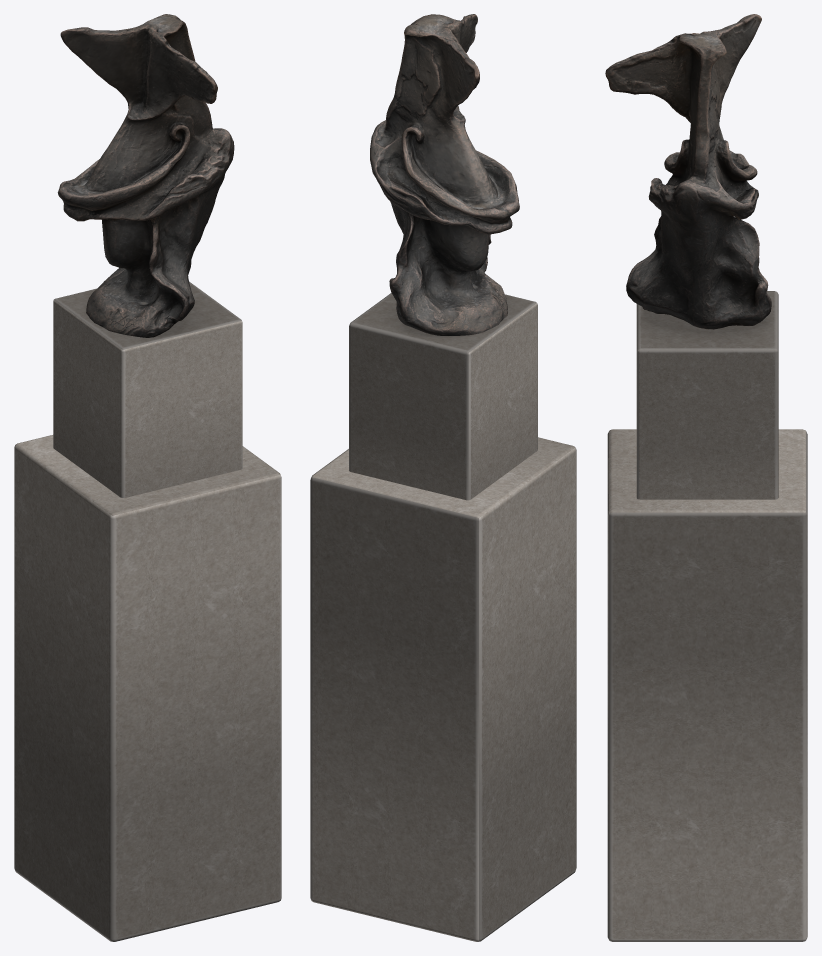
Rendered from Condottiere.glb.
The picture shows the model from 3 angles, left to right: view 1: azimuth 30°, elevation 25°; view 2: azimuth 150°, elevation 25°; view 3: azimuth 270°, elevation 25°; orthographic projection.
Visible parts, largest first — view 1: Base_low, Condotierre_lowBAKE; view 2: Base_low, Condotierre_lowBAKE; view 3: Base_low, Condotierre_lowBAKE.
Boxes of the visible parts, left/top/right/bottom form: Base_low: left=14, top=281, right=281, bottom=941; Condotierre_lowBAKE: left=57, top=14, right=234, bottom=337; Base_low: left=310, top=293, right=576, bottom=941; Condotierre_lowBAKE: left=370, top=14, right=519, bottom=335; Base_low: left=607, top=291, right=807, bottom=941; Condotierre_lowBAKE: left=605, top=14, right=771, bottom=329.
Size of the model in its own units: 0.3997 by 1.92 by 0.4042.
Materials: 1 (1 with a texture image).
